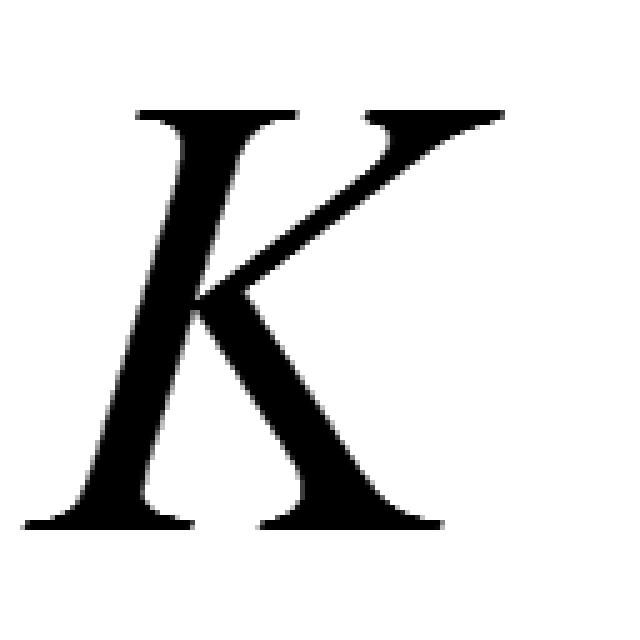K: (15, 95, 505, 535)
